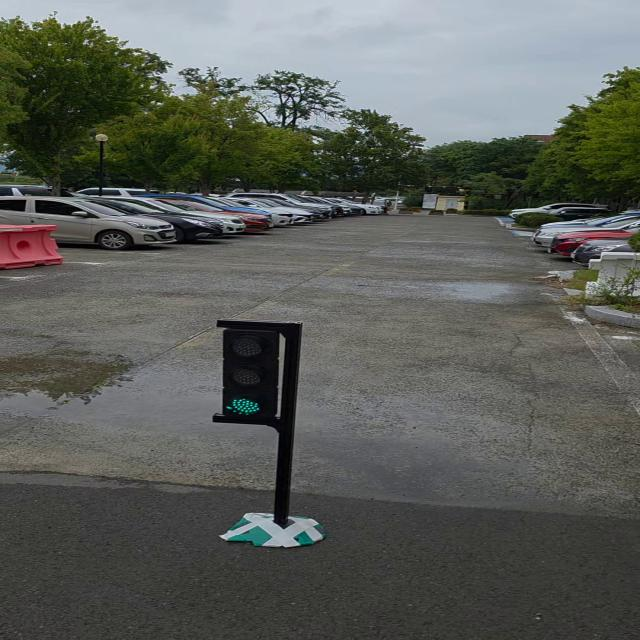green: (218, 323, 295, 425)
